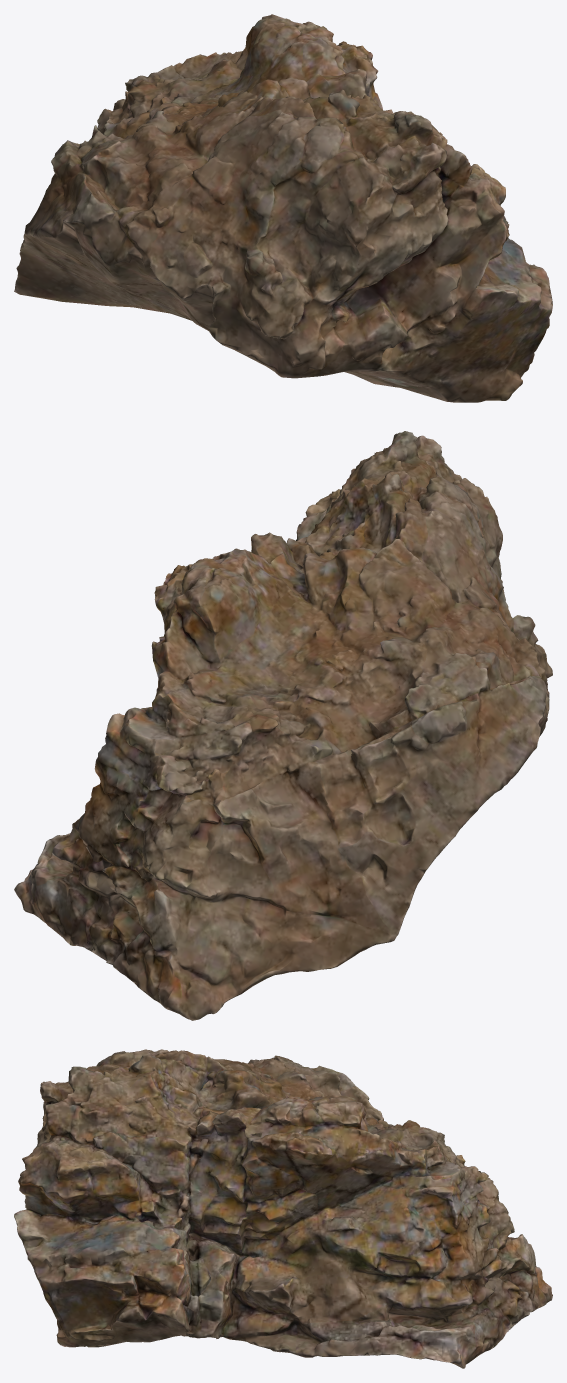
The model's file is PH-boulder_01.glb.
The picture shows the model from 3 angles, top to bottom: view 1: azimuth 30°, elevation 25°; view 2: azimuth 150°, elevation 25°; view 3: azimuth 270°, elevation 25°; orthographic projection. The views are drawn at different scales.
Visible parts, largest first — view 1: boulder_01; view 2: boulder_01; view 3: boulder_01.
Boxes of the visible parts, bbox=[...] form: boulder_01: bbox=[14, 14, 552, 402]; boulder_01: bbox=[14, 431, 552, 1020]; boulder_01: bbox=[14, 1049, 552, 1368].
Size of the model in its own units: 1.27 by 1 by 1.83.
1 material, 1 textured.
